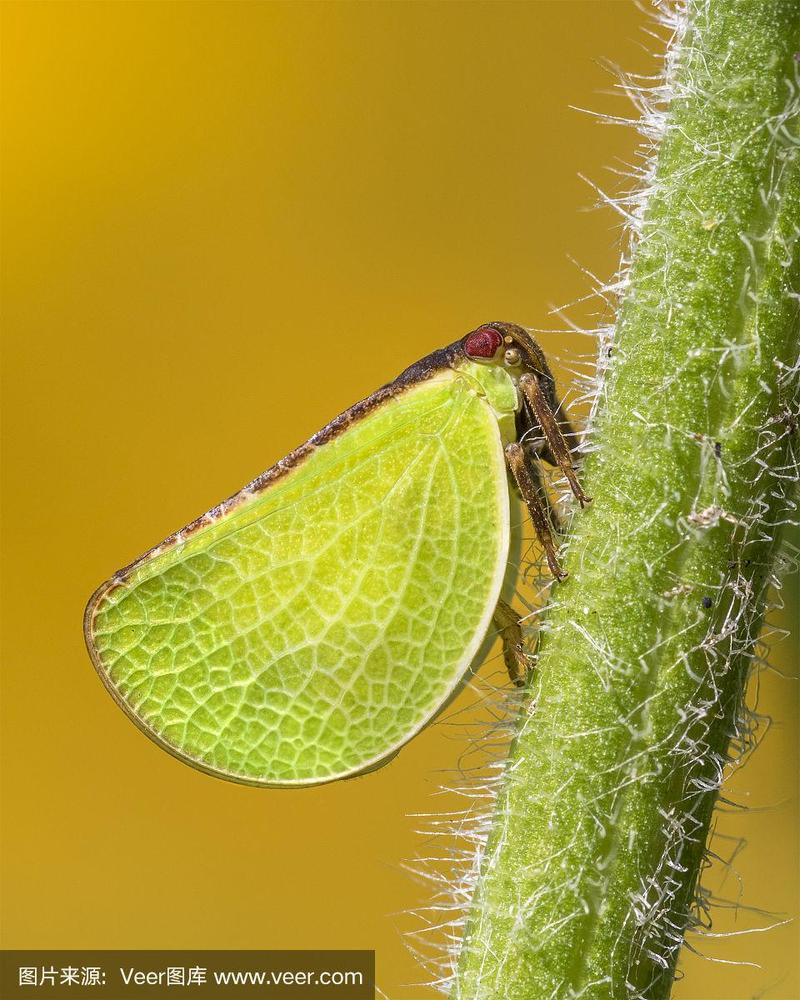Delphacidae: (82, 319, 594, 791)
